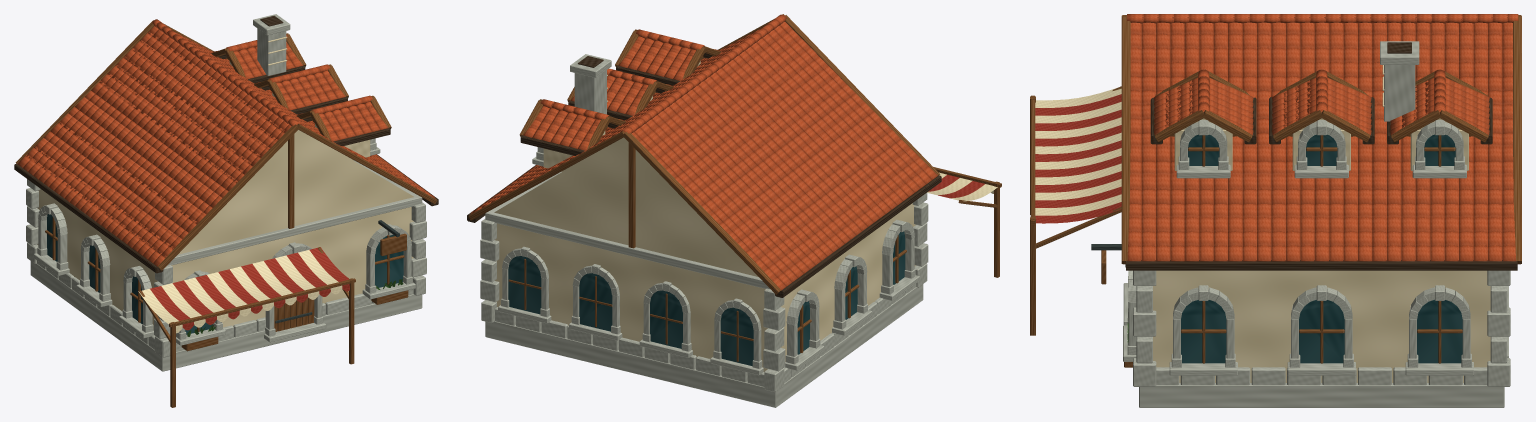
The model's file is harbor_warehouse.glb.
3 views of the same model, side by side, from view 1: azimuth 30°, elevation 25°; view 2: azimuth 150°, elevation 25°; view 3: azimuth 270°, elevation 25° (orthographic). The views are drawn at different scales.
Visible parts, largest first — view 1: harbor_warehouse_Roof.001, harbor_warehouse_Structure.001, harbor_warehouse_Joinery.001, harbor_warehouse_Cloth.001, harbor_warehouse_Detail.001, harbor_warehouse_Glazing.001; view 2: harbor_warehouse_Roof.001, harbor_warehouse_Structure.001, harbor_warehouse_Joinery.001, harbor_warehouse_Detail.001, harbor_warehouse_Glazing.001, harbor_warehouse_Cloth.001; view 3: harbor_warehouse_Roof.001, harbor_warehouse_Structure.001, harbor_warehouse_Joinery.001, harbor_warehouse_Detail.001, harbor_warehouse_Cloth.001, harbor_warehouse_Glazing.001.
Part boxes in pixels (x1,y1,x2,y2): harbor_warehouse_Roof.001: [17, 19, 435, 266]; harbor_warehouse_Structure.001: [26, 14, 426, 371]; harbor_warehouse_Joinery.001: [14, 20, 438, 407]; harbor_warehouse_Cloth.001: [138, 247, 349, 333]; harbor_warehouse_Detail.001: [34, 138, 415, 345]; harbor_warehouse_Glazing.001: [47, 214, 403, 334]; harbor_warehouse_Roof.001: [470, 14, 937, 290]; harbor_warehouse_Structure.001: [480, 54, 928, 407]; harbor_warehouse_Joinery.001: [467, 14, 1001, 361]; harbor_warehouse_Detail.001: [498, 147, 919, 375]; harbor_warehouse_Glazing.001: [508, 231, 905, 366]; harbor_warehouse_Cloth.001: [927, 172, 997, 201]; harbor_warehouse_Roof.001: [1127, 14, 1518, 261]; harbor_warehouse_Structure.001: [1133, 41, 1510, 407]; harbor_warehouse_Joinery.001: [1030, 15, 1521, 367]; harbor_warehouse_Detail.001: [1123, 120, 1508, 375]; harbor_warehouse_Cloth.001: [1035, 88, 1121, 223]; harbor_warehouse_Glazing.001: [1181, 134, 1462, 363].
Size of the model in its own units: 9.56 by 7.04 by 9.72.
4 materials, 4 textured.
